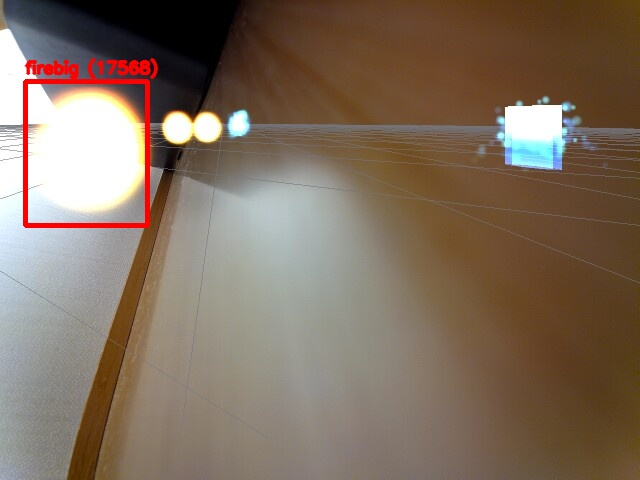firebig: (25, 81, 147, 225)
